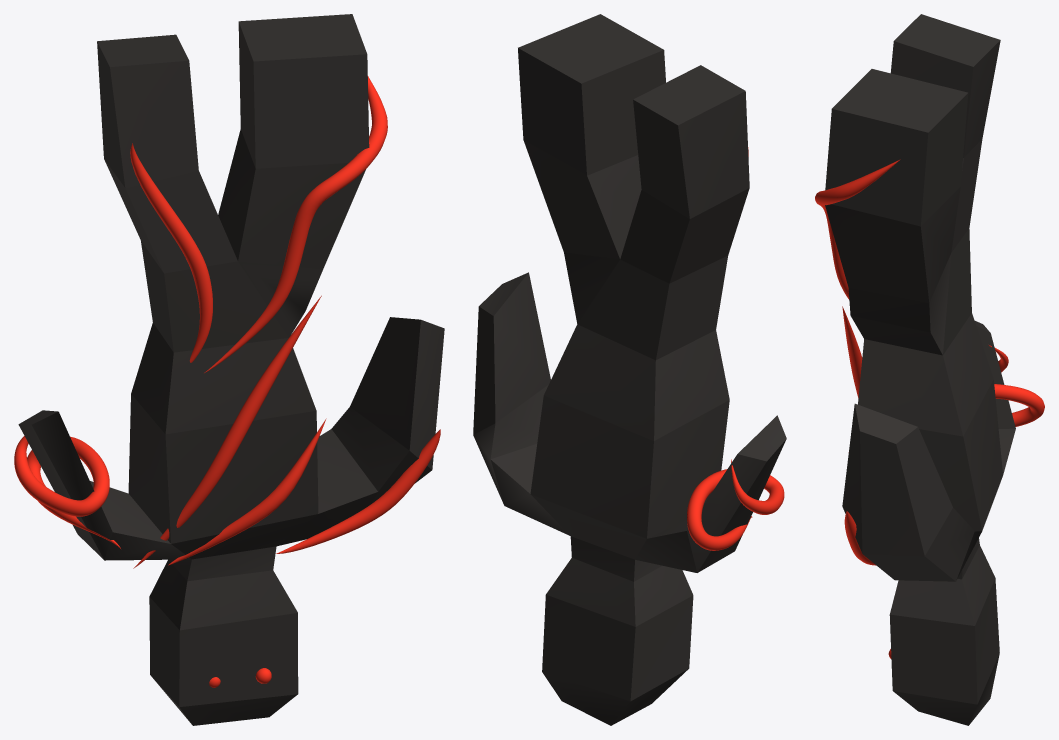
Rendered from parshendi2.obj.
3 views of the same model, side by side, from view 1: azimuth 30°, elevation 25°; view 2: azimuth 150°, elevation 25°; view 3: azimuth 270°, elevation 25° (orthographic). The views are drawn at different scales.
Visible parts, largest first — view 1: s.0075, s.0093, s.0094, s.0091, s.0092, s.0089, s.0090; view 2: s.0075, s.0094; view 3: s.0075, s.0093, s.0094, s.0091, s.0089.
Boxes of the visible parts, x1,y1,x2,y2 form: s.0075: [18, 14, 444, 725]; s.0093: [204, 76, 387, 372]; s.0094: [14, 436, 120, 548]; s.0091: [133, 295, 321, 568]; s.0092: [130, 143, 212, 362]; s.0089: [276, 429, 440, 553]; s.0090: [168, 418, 326, 565]; s.0075: [473, 14, 786, 725]; s.0094: [687, 459, 784, 550]; s.0075: [825, 14, 1015, 725]; s.0093: [815, 159, 900, 299]; s.0094: [989, 345, 1044, 426]; s.0091: [842, 306, 862, 397]; s.0089: [844, 511, 875, 565].
Size of the model in its own units: 3.03 by 5.48 by 1.79.
